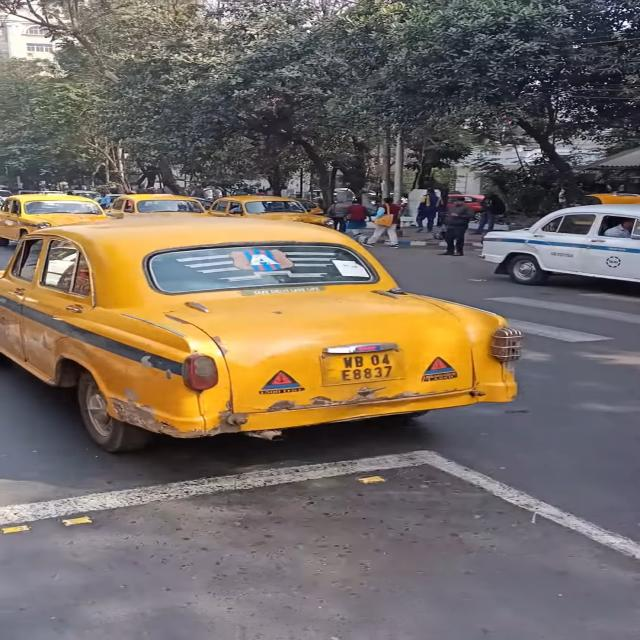Taxi: (8, 210, 517, 453)
